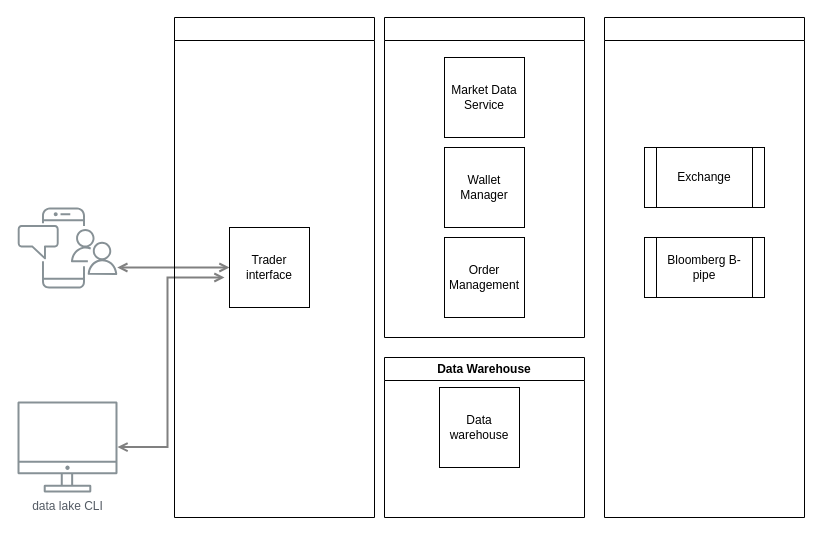
This 822x535 diagram has some shape labels left out. The box of each missing label's shape, as (x1, y1, x2, y2) in pixels:
3rd party: (604, 16, 804, 518)
Back end service: (384, 16, 584, 338)
Front end service: (174, 16, 374, 518)
Users: (17, 207, 117, 288)
